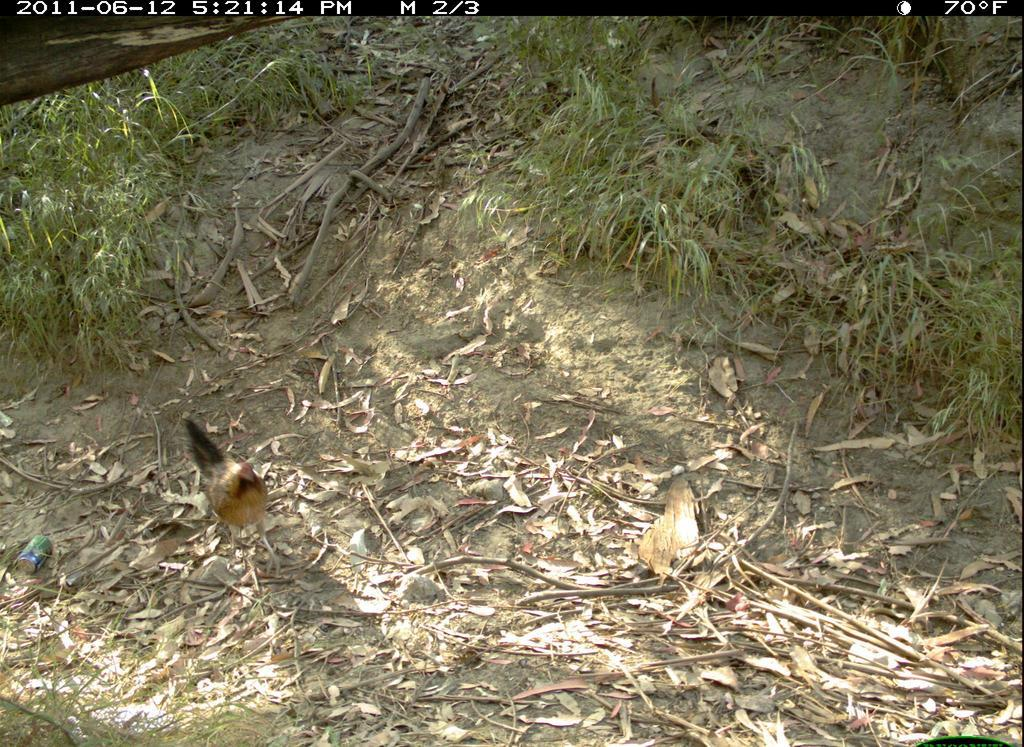bird: (176, 411, 299, 597)
